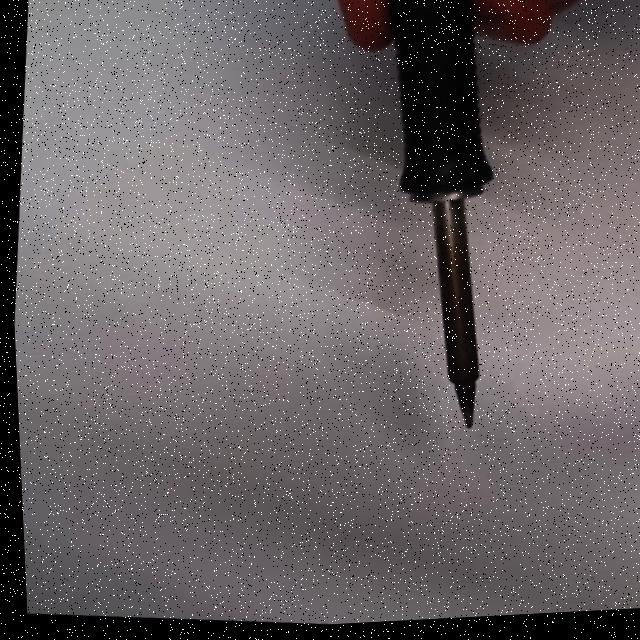soldering_iron: (346, 0, 519, 434)
